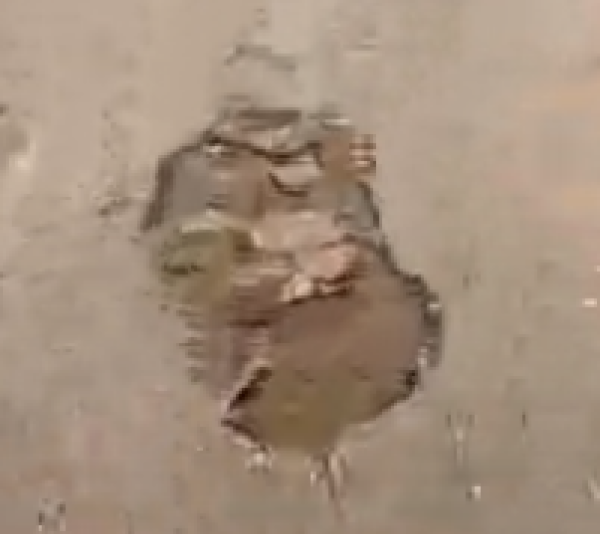Berlubang: (125, 65, 460, 507)
